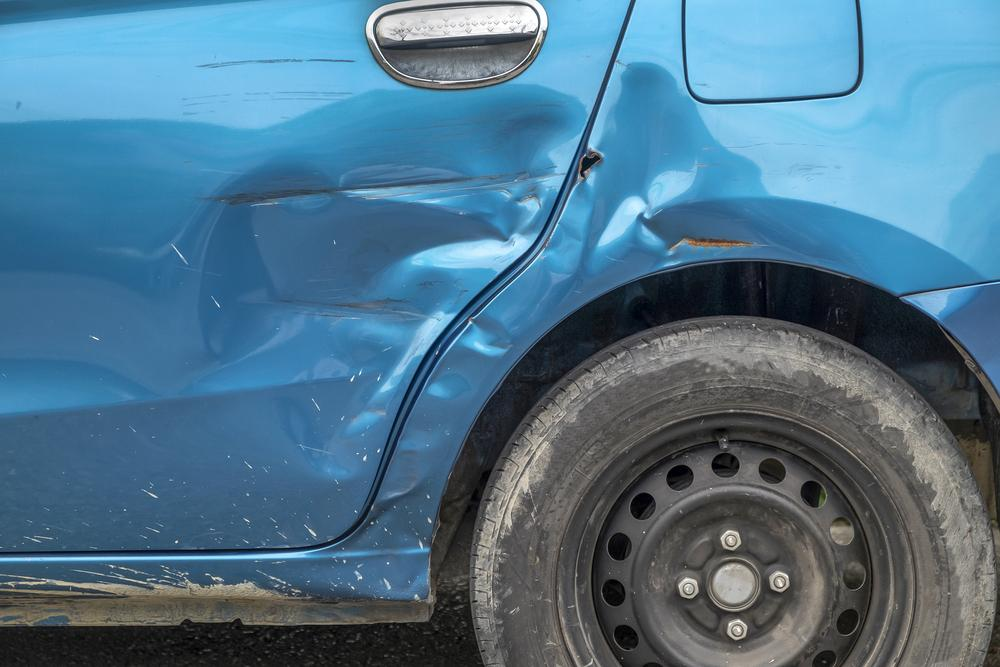dent: (199, 87, 583, 475), (544, 61, 858, 288), (354, 308, 520, 598)
